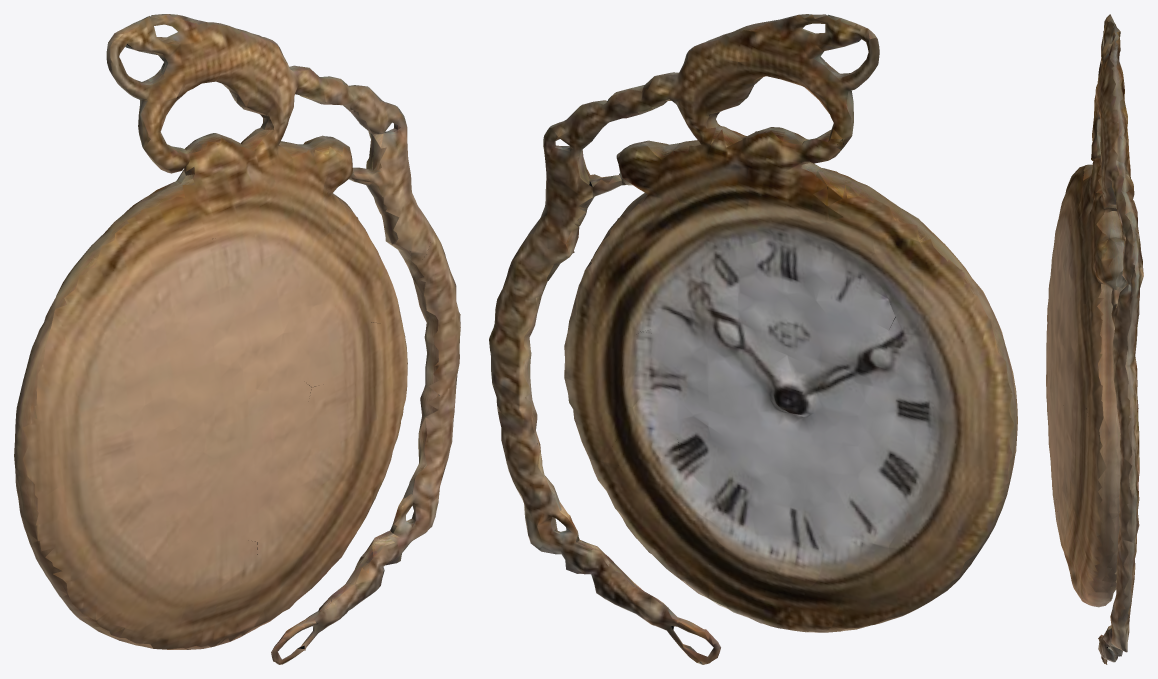
Rendered from 10_40_00_20_a-single-pocket-watch-with-gilt-filigree-work.glb.
The picture shows the model from 3 angles, left to right: view 1: azimuth 30°, elevation 25°; view 2: azimuth 150°, elevation 25°; view 3: azimuth 270°, elevation 25°; orthographic projection. The views are drawn at different scales.
Parts seen in each view (by area): view 1: world; view 2: world; view 3: world.
Boxes of the visible parts, x1,y1,x2,y2 form: world: (14, 14, 460, 664); world: (489, 14, 1017, 664); world: (1046, 14, 1143, 664).
Bounding box in the file's own units: 0.7184 × 0.9636 × 0.1461.
Materials: 1 (1 with a texture image).
